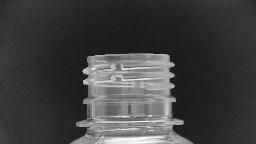No Cap: (72, 48, 186, 130)
